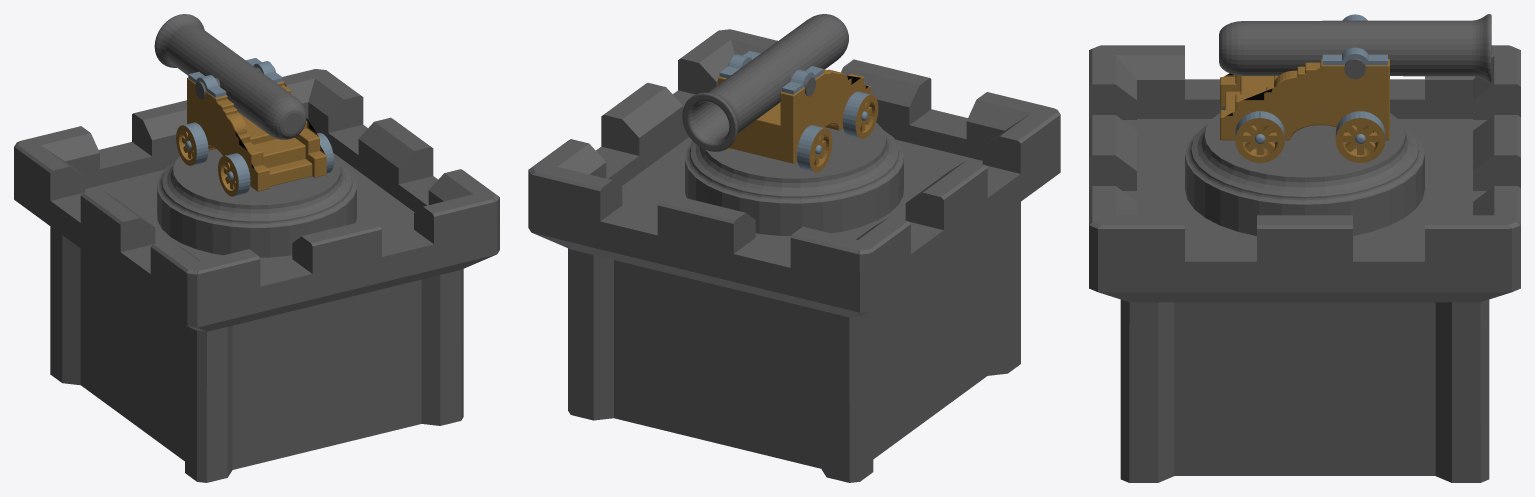
The model's file is Turret_Cannon.fbx.
3 views of the same model, side by side, from view 1: azimuth 30°, elevation 25°; view 2: azimuth 150°, elevation 25°; view 3: azimuth 270°, elevation 25° (orthographic). The views are drawn at different scales.
Parts seen in each view (by area): view 1: Base, Barrel, BarrelCart, BackWheels, FrontWheels; view 2: Base, Barrel, BarrelCart, FrontWheels, BackWheels; view 3: Base, Barrel, BarrelCart, FrontWheels, BackWheels.
Boxes of the visible parts, left/top/right/bottom form: Base: left=14, top=69, right=499, bottom=482; Barrel: left=154, top=14, right=306, bottom=139; BarrelCart: left=187, top=58, right=326, bottom=191; BackWheels: left=218, top=132, right=333, bottom=196; FrontWheels: left=176, top=122, right=208, bottom=165; Base: left=528, top=29, right=1060, bottom=482; Barrel: left=682, top=14, right=848, bottom=151; BarrelCart: left=718, top=51, right=870, bottom=163; FrontWheels: left=724, top=125, right=832, bottom=172; BackWheels: left=842, top=91, right=878, bottom=138; Base: left=1089, top=45, right=1520, bottom=482; Barrel: left=1219, top=14, right=1491, bottom=82; BarrelCart: left=1220, top=14, right=1389, bottom=140; FrontWheels: left=1335, top=111, right=1385, bottom=162; BackWheels: left=1235, top=111, right=1284, bottom=162.
Size of the model in its own units: 3.6 by 3.6 by 3.57.
